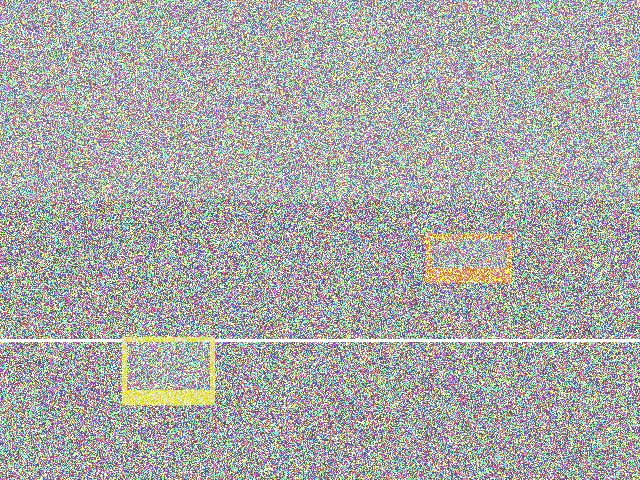bus: (9, 276, 120, 377)
motorcycle: (143, 387, 323, 436)
